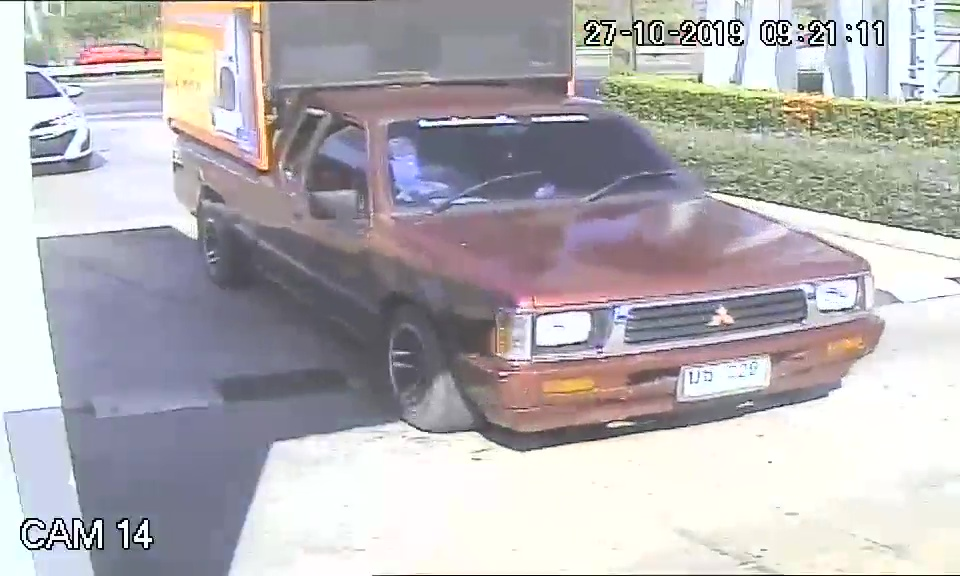pickup: (165, 74, 888, 445)
